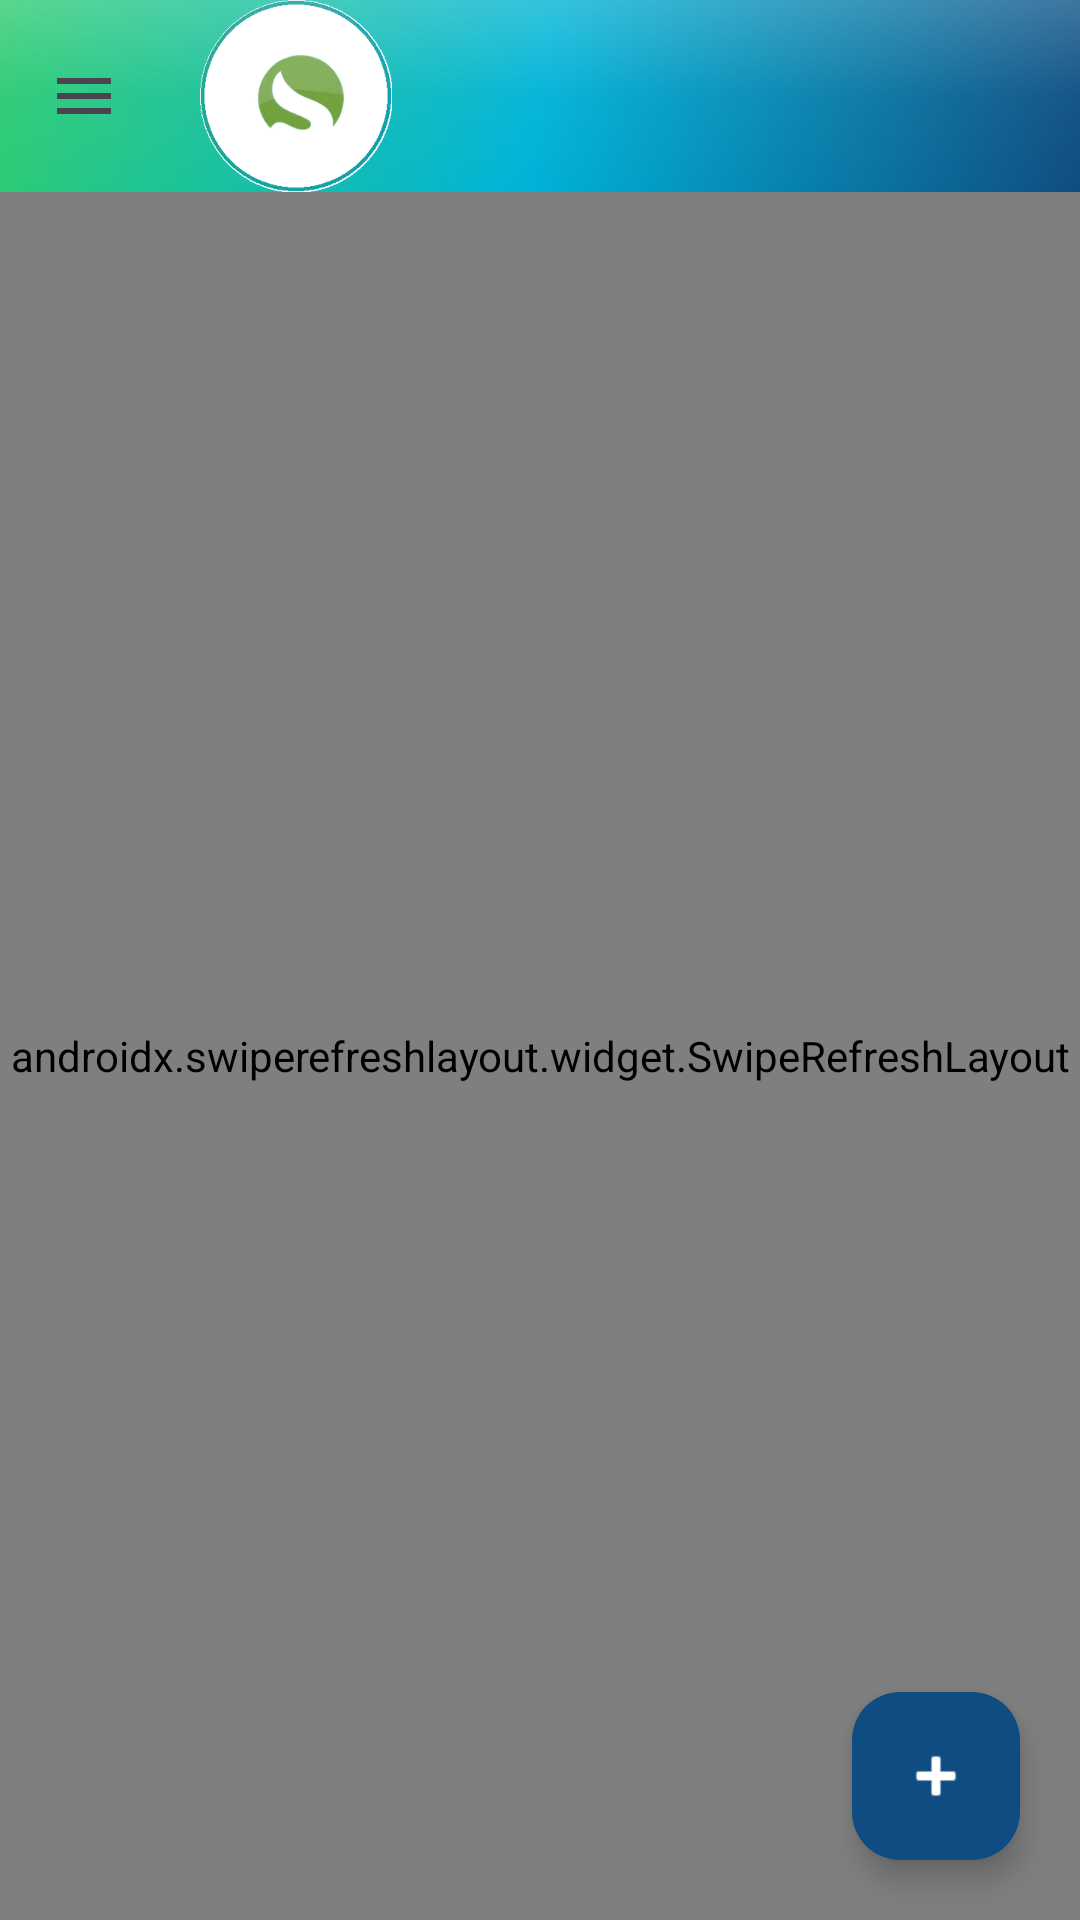

Screen size 1080w x 1920h. Icon name, then its center in pixels as point (x, y):
Ekle: point (936, 1776)
